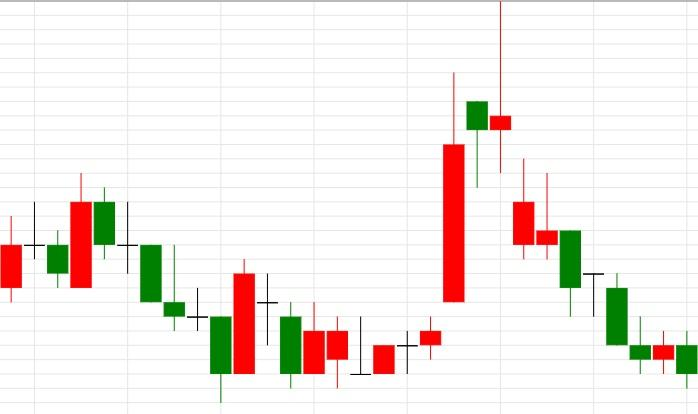hanging_man_fall: (374, 72, 488, 374)
